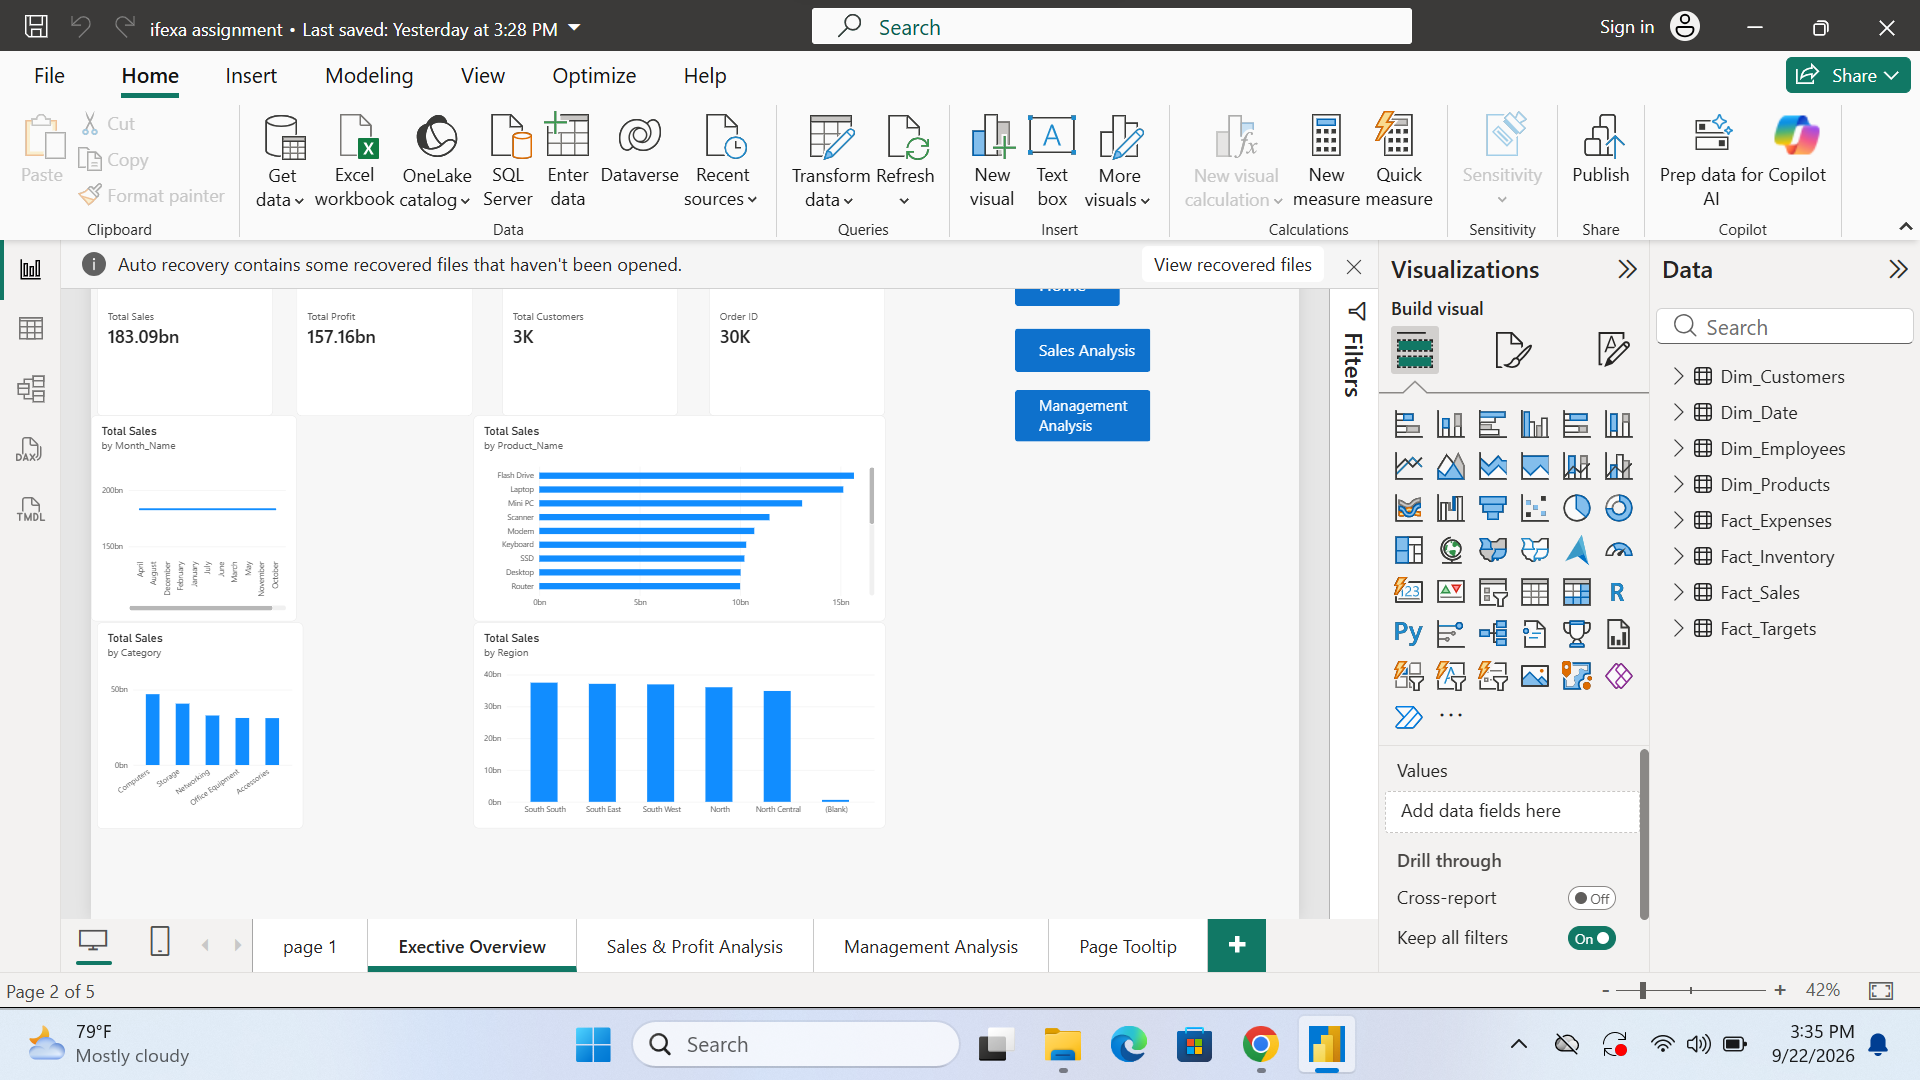

The dashboard page shown, as its layout file describes it:
{"tool":"powerbi","page":{"name":"Exective  Overview","canvas":[1920,1080],"ordinal":1},"visuals":[{"type":"cardVisual","fields":{"Data":["Dim_Customers.Total Sales"]},"box":[10,0,280,280],"z":0},{"type":"cardVisual","fields":{"Data":["Dim_Customers.Total Profit"]},"box":[327.6,0,280,280],"z":1000},{"type":"cardVisual","fields":{"Data":["Dim_Customers.Total Customers"]},"box":[652.6,0,280,280],"z":2000},{"type":"cardVisual","fields":{"Data":["Dim_Customers.Order ID"]},"box":[982.7,0,280,280],"z":3000},{"type":"lineChart","fields":{"Category":["Dim_Date.Month_Name"],"Y":["Dim_Customers.Total Sales"]},"box":[0,279.7,327.6,327.6],"z":4000},{"type":"clusteredBarChart","fields":{"Category":["Dim_Products.Product_Name"],"Y":["Dim_Customers.Total Sales"]},"box":[607.2,279.7,655.1,327.6],"z":5000},{"type":"clusteredColumnChart","fields":{"Category":["Dim_Products.Category"],"Y":["Dim_Customers.Total Sales"]},"box":[10.1,607.2,328,328],"z":6000},{"type":"clusteredColumnChart","fields":{"Category":["Dim_Customers.Region"],"Y":["Dim_Customers.Total Sales"]},"box":[607.2,607.2,655.1,327.6],"z":7000},{"type":"actionButton","box":[1470.8,35.9,166.8,69.3],"z":8000},{"type":"actionButton","box":[1470.8,141.2,215.6,69.3],"z":9000},{"type":"actionButton","box":[1470.8,238.7,215.6,82.1],"z":10000}]}

Visuals, with their boxes on the page's 1920x1080 design canvas (x1, y1, x2, y2). These are canvas units, not pixel positions in the 1920x1080 screenshot, which may show the page scaled, cropped or inside an application window:
cardVisual - Dim_Customers.Total Sales: 10/0/290/280
cardVisual - Dim_Customers.Total Profit: 328/0/608/280
cardVisual - Dim_Customers.Total Customers: 653/0/933/280
cardVisual - Dim_Customers.Order ID: 983/0/1263/280
lineChart - Dim_Date.Month_Name x Dim_Customers.Total Sales: 0/280/328/607
clusteredBarChart - Dim_Products.Product_Name x Dim_Customers.Total Sales: 607/280/1262/607
clusteredColumnChart - Dim_Products.Category x Dim_Customers.Total Sales: 10/607/338/935
clusteredColumnChart - Dim_Customers.Region x Dim_Customers.Total Sales: 607/607/1262/935
actionButton: 1471/36/1638/105
actionButton: 1471/141/1686/210
actionButton: 1471/239/1686/321
